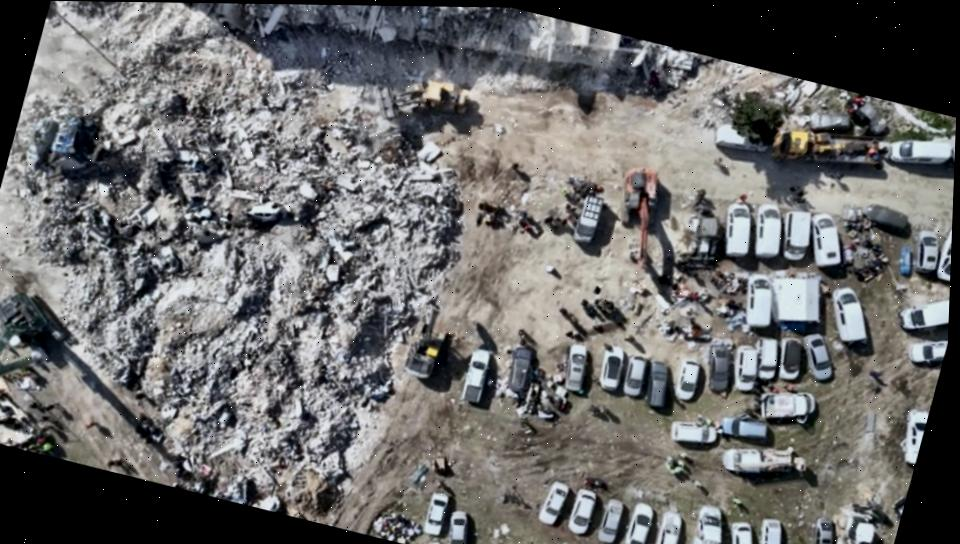kapali: (30, 1, 521, 165)
